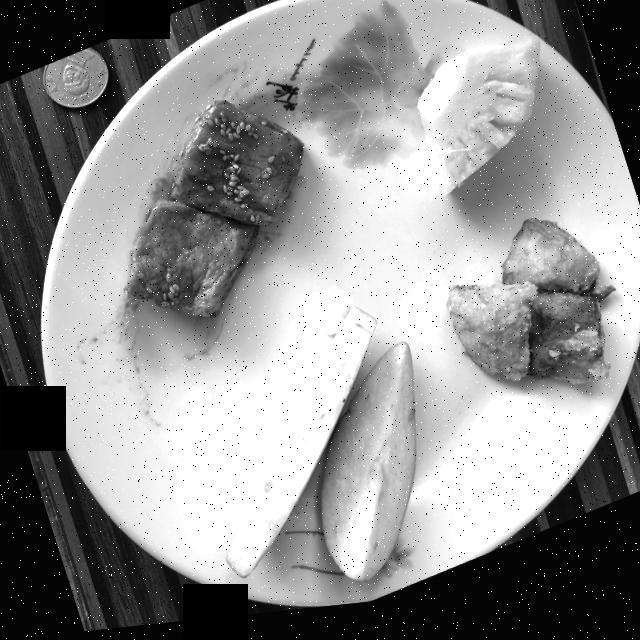coin: (42, 50, 108, 110)
creamy tofu: (124, 104, 302, 322)
fried potato: (446, 230, 614, 397)
guava -sliced-: (225, 315, 415, 589)
pineapple: (416, 46, 539, 204)
